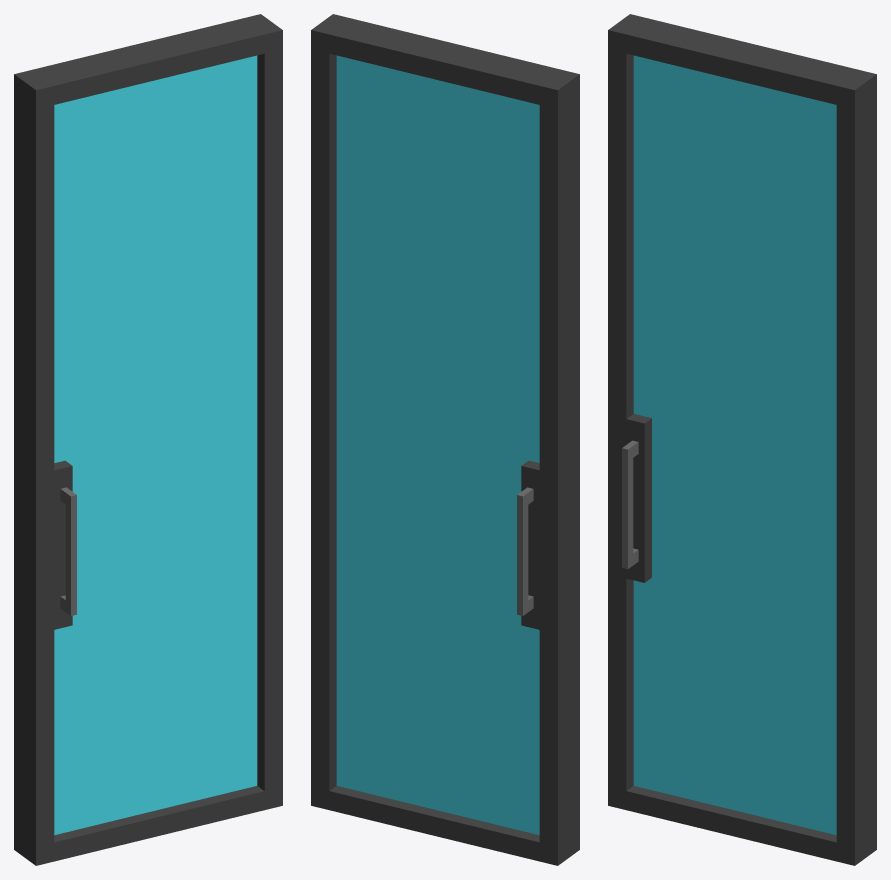
The model's file is SM_Buildings_Office_01_Door_R.fbx.
3 renders of one model, left to right at view 1: azimuth 30°, elevation 25°; view 2: azimuth 150°, elevation 25°; view 3: azimuth 330°, elevation 25°, orthographic.
Parts seen in each view (by area): view 1: SM_Buildings_Office_01_Door_R; view 2: SM_Buildings_Office_01_Door_R; view 3: SM_Buildings_Office_01_Door_R.
Part boxes in pixels (x1,y1,x2,y2): SM_Buildings_Office_01_Door_R: (14,14,282,865); SM_Buildings_Office_01_Door_R: (311,14,579,865); SM_Buildings_Office_01_Door_R: (608,14,876,865).
Bounding box in the file's own units: 0.6755 × 2.03 × 0.2035.
